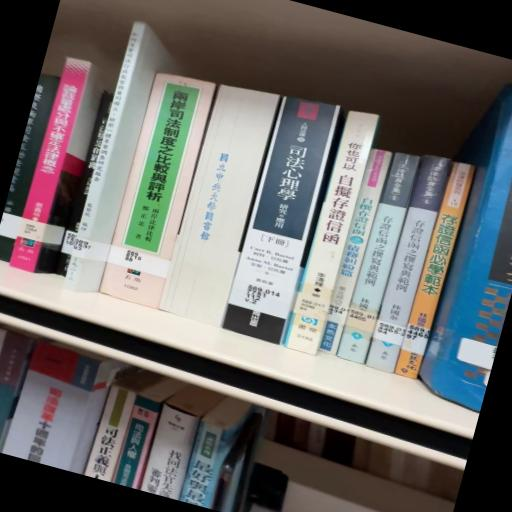backward: (160, 84, 279, 326)
book: (411, 67, 512, 415), (216, 94, 342, 350), (283, 108, 385, 360), (107, 70, 218, 264), (332, 152, 421, 370), (140, 400, 204, 499)
